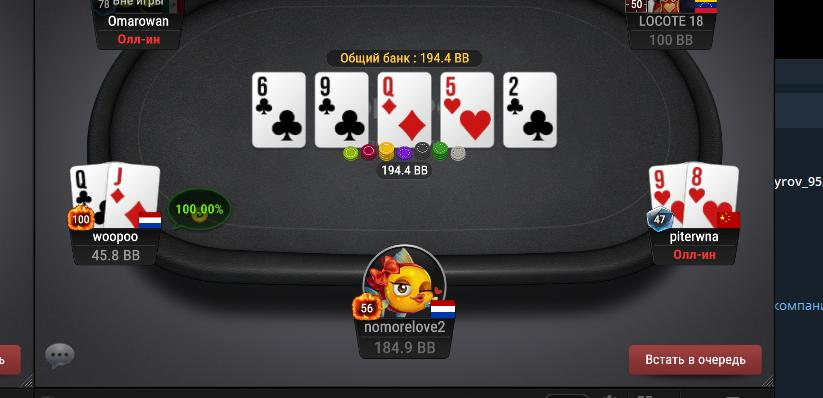2c: (504, 74, 556, 146)
5h: (441, 74, 494, 145)
6c: (252, 74, 304, 147)
8h: (687, 161, 736, 229)
9c: (316, 73, 368, 148)
9h: (649, 165, 685, 229)
Jd: (107, 163, 160, 226)
Qc: (71, 165, 107, 229)
Qd: (378, 74, 430, 146)
